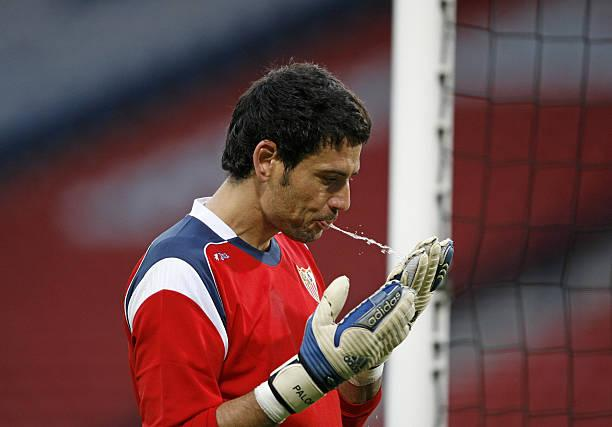Spitting: (172, 32, 425, 254)
